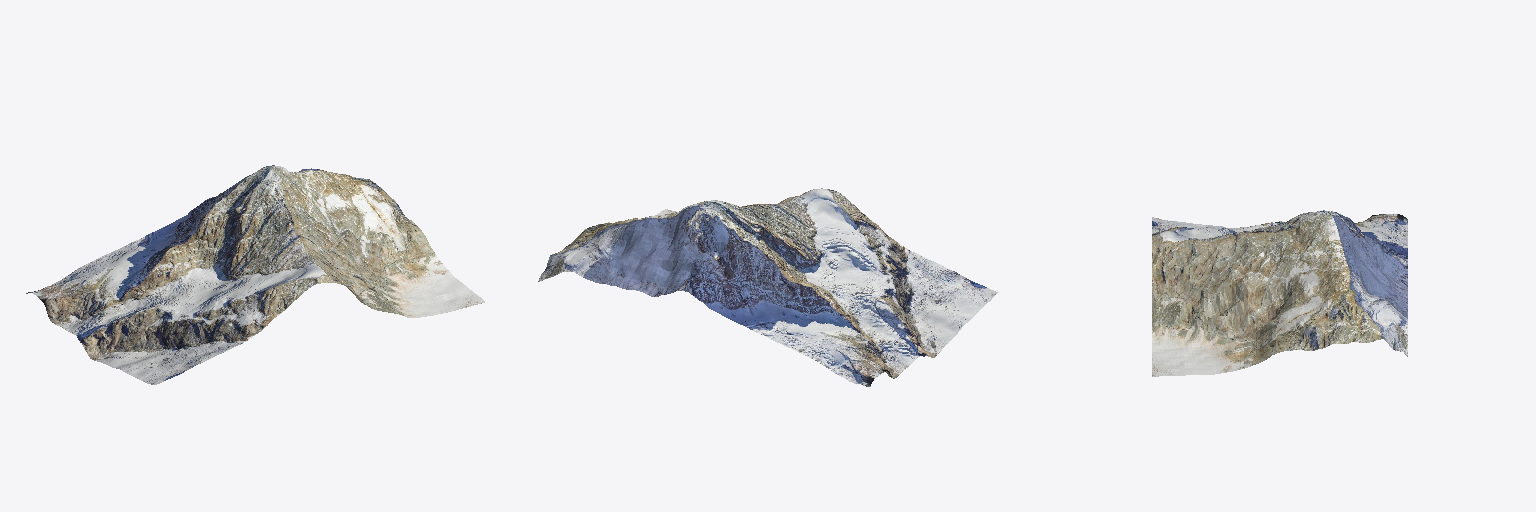
3 views of the same model, side by side, from view 1: azimuth 30°, elevation 25°; view 2: azimuth 150°, elevation 25°; view 3: azimuth 270°, elevation 25° (orthographic).
Visible parts, largest first — view 1: EXPORT_GOOGLE_SAT_WM.025; view 2: EXPORT_GOOGLE_SAT_WM.025; view 3: EXPORT_GOOGLE_SAT_WM.025.
Boxes of the visible parts, <box> form: EXPORT_GOOGLE_SAT_WM.025: <box>26,165,484,384</box>; EXPORT_GOOGLE_SAT_WM.025: <box>538,188,997,386</box>; EXPORT_GOOGLE_SAT_WM.025: <box>1152,210,1407,376</box>.
Bounding box in the file's own units: 4562 × 1618 × 3041.
1 materials, 1 textured.